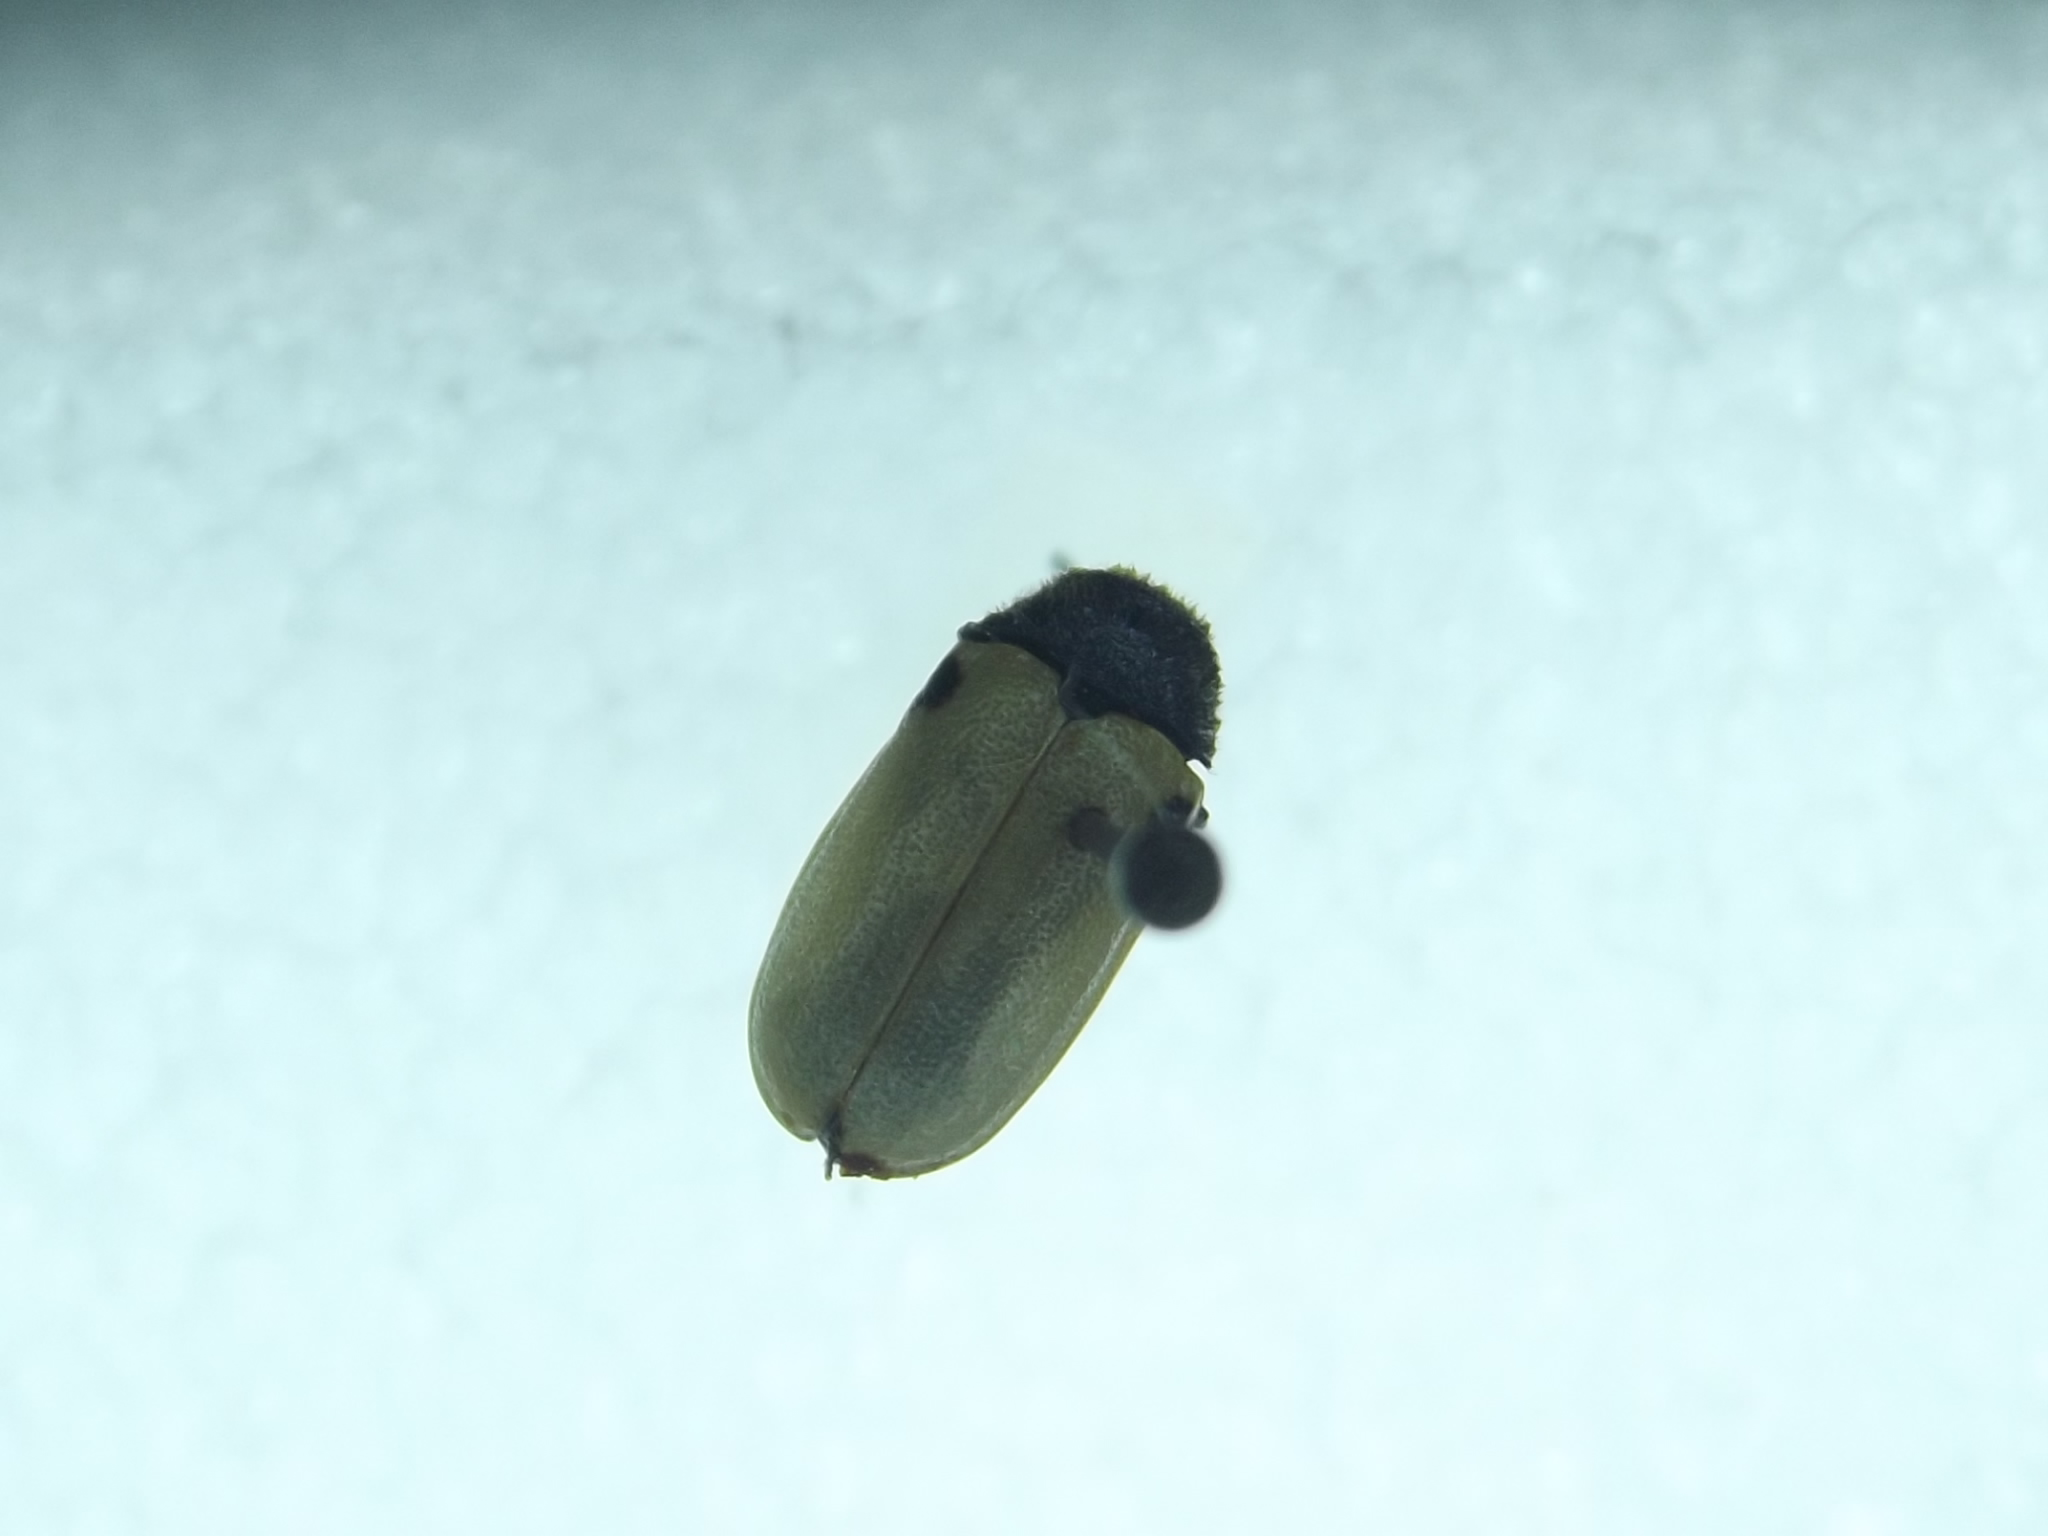Labidostomis_propinqua: (740, 558, 1222, 1199)
